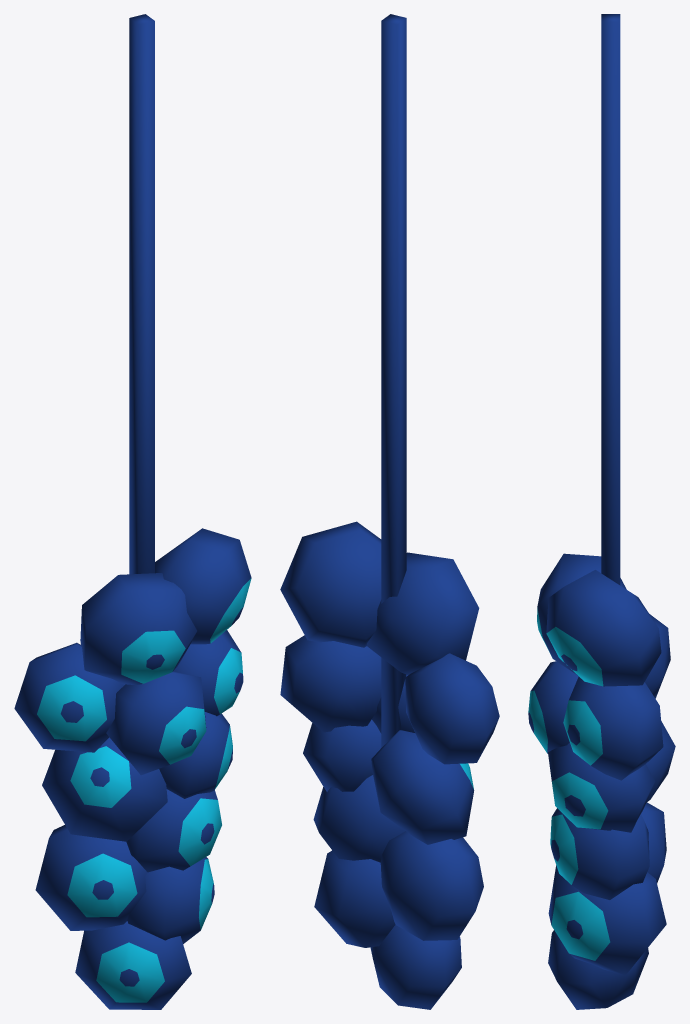
Rendered from Prop_Lamps_06.fbx.
3 views of the same model, side by side, from view 1: azimuth 30°, elevation 25°; view 2: azimuth 150°, elevation 25°; view 3: azimuth 270°, elevation 25° (orthographic).
Visible parts, largest first — view 1: Cube.001; view 2: Cube.001; view 3: Cube.001.
Boxes of the visible parts, <box> form: Cube.001: <box>14,14,251,1009</box>; Cube.001: <box>280,14,499,1009</box>; Cube.001: <box>528,14,675,1009</box>.
Bounding box in the file's own units: 1.65 × 7.38 × 0.9932.
